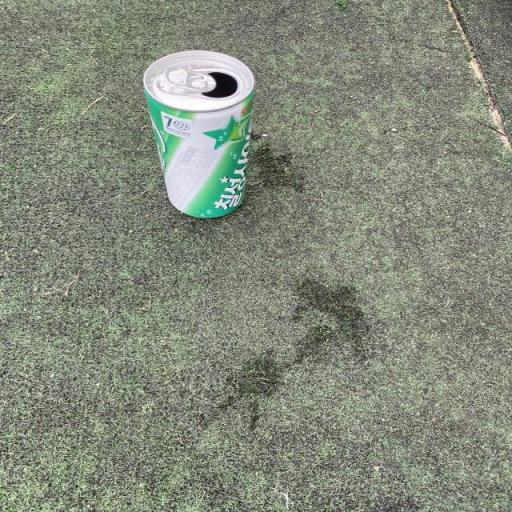metal: (129, 39, 275, 246)
